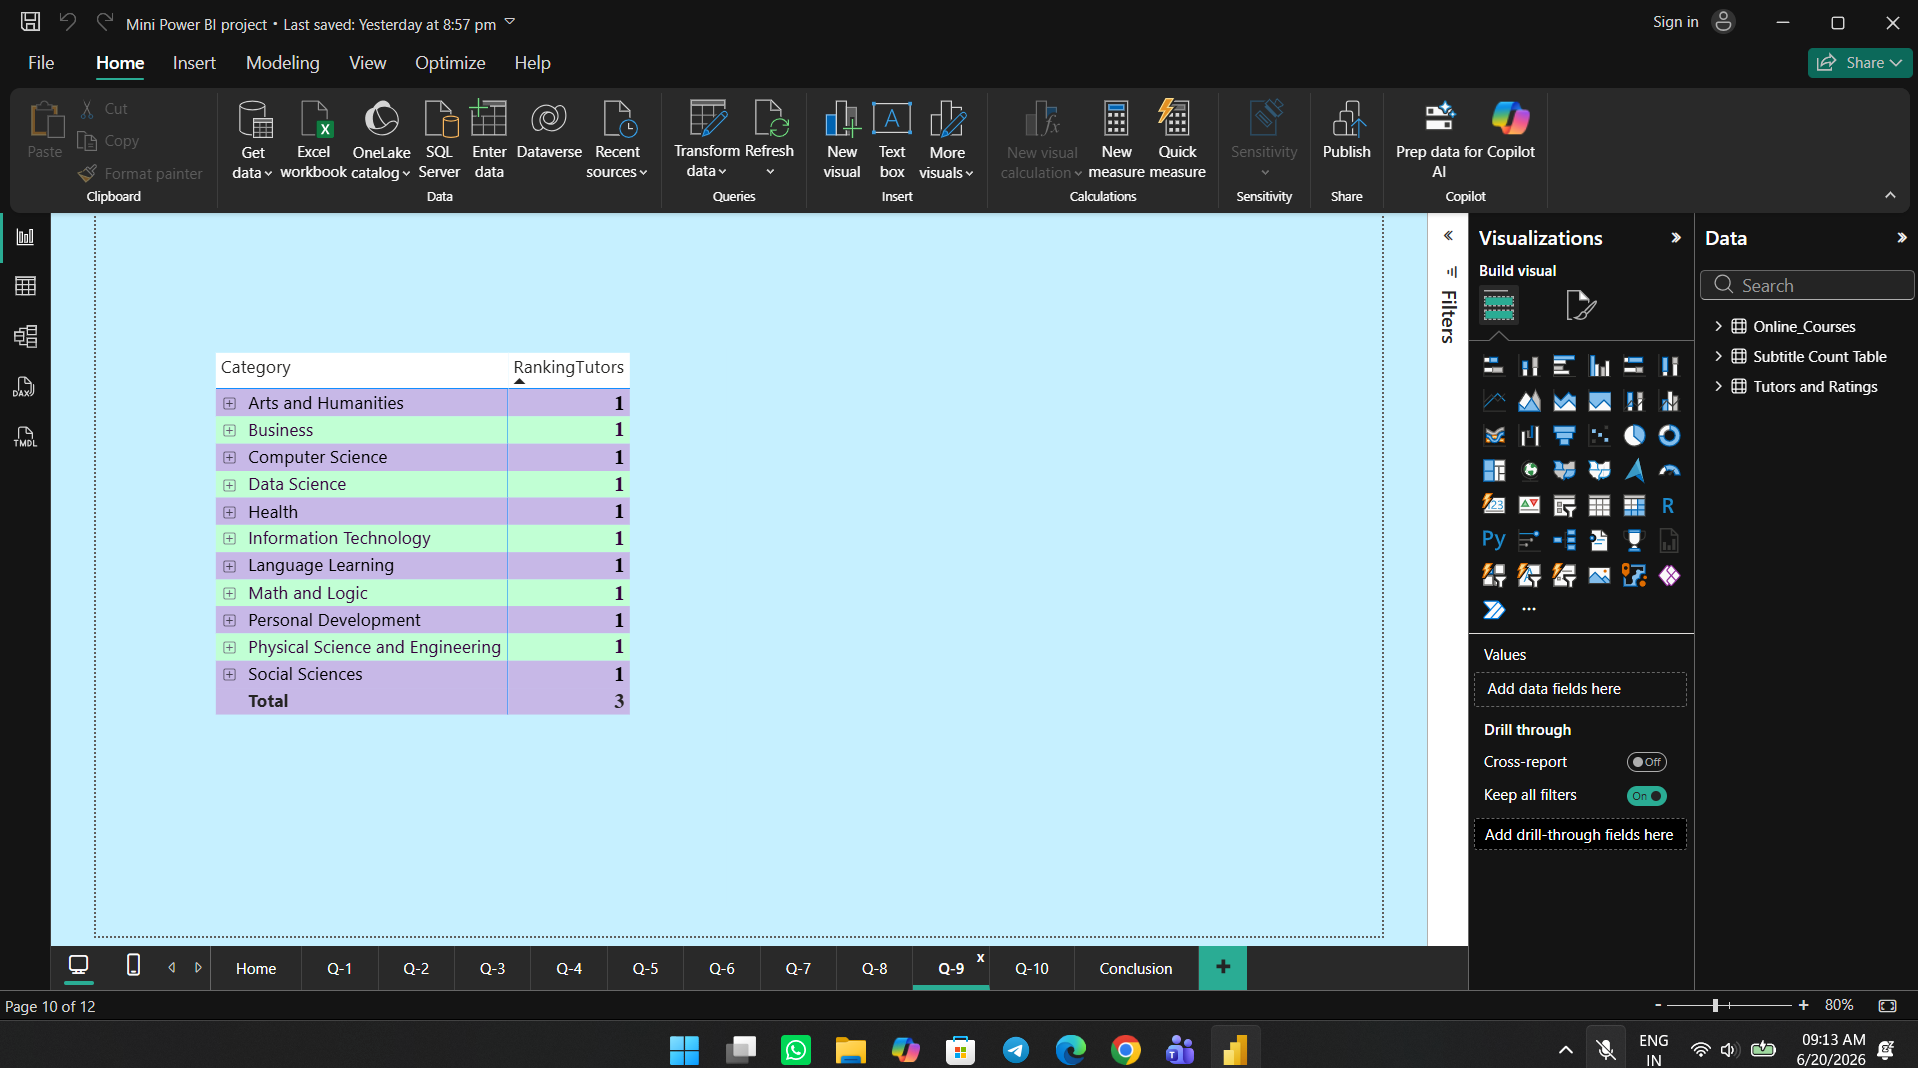

The dashboard page shown, as its layout file describes it:
{"tool":"powerbi","page":{"name":"Q-9","canvas":[1280,720],"ordinal":9},"visuals":[{"type":"pivotTable","fields":{"Rows":["Online_Courses.Category","Online_Courses.Sub-Category","Tutors and Ratings.Instructors"],"Values":["Tutors and Ratings.RankingTutors"]},"box":[114.3,134.3,512.9,555.7],"z":0}]}

Visuals, with their boxes on the page's 1280x720 design canvas (x1, y1, x2, y2). These are canvas units, not pixel positions in the 1918x1068 screenshot, which may show the page scaled, cropped or inside an application window:
pivotTable - Online_Courses.Category x Online_Courses.Sub-Category: pyautogui.locateOnScreen(114, 134, 627, 690)
